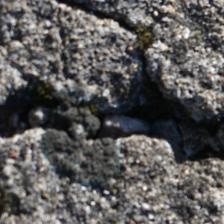Crack: (6, 68, 222, 169)
